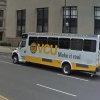Bus: (15, 25, 100, 80)
